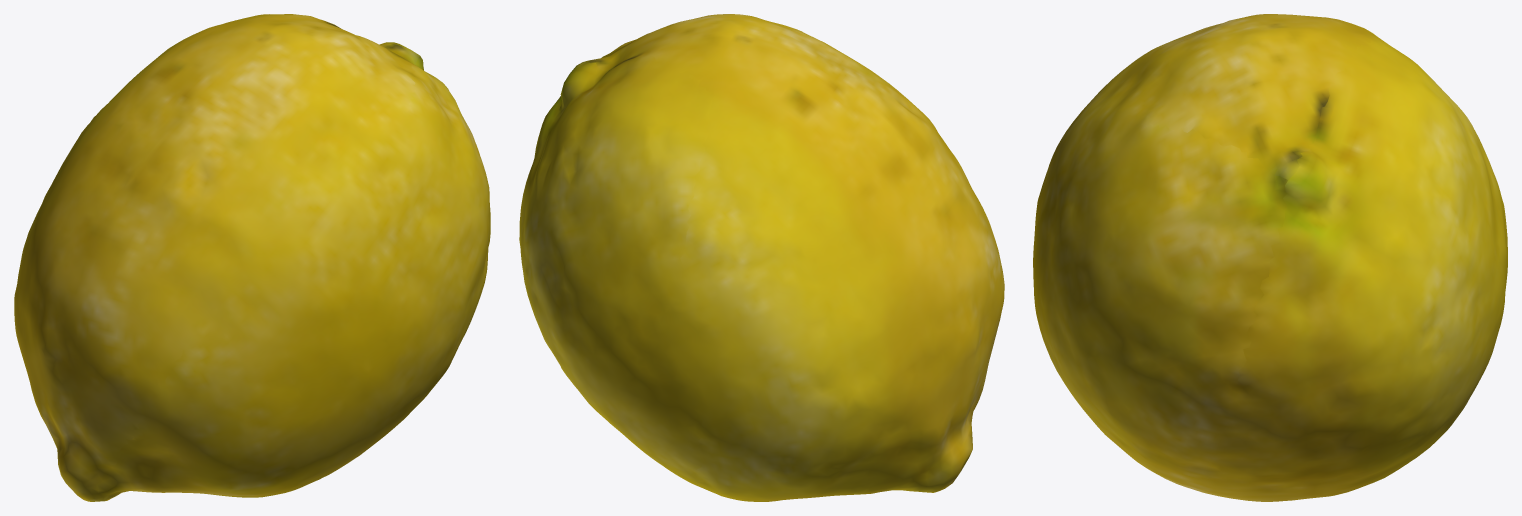
The model's file is textured_simplified.obj.
3 renders of one model, left to right at view 1: azimuth 30°, elevation 25°; view 2: azimuth 150°, elevation 25°; view 3: azimuth 270°, elevation 25°, orthographic. The views are drawn at different scales.
Size of the model in its own units: 0.0606 by 0.0592 by 0.053.
Materials: 1 (1 with a texture image).
